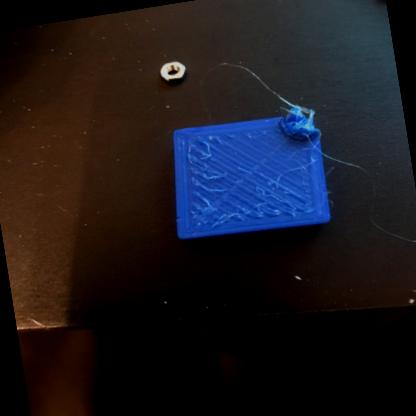fail: (189, 125, 317, 228), (275, 89, 326, 146)
